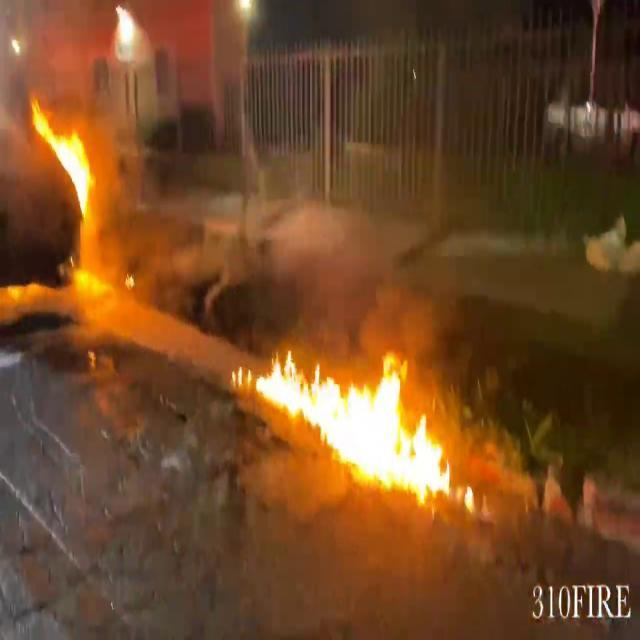Fire: (245, 334, 460, 496), (32, 96, 110, 276)
